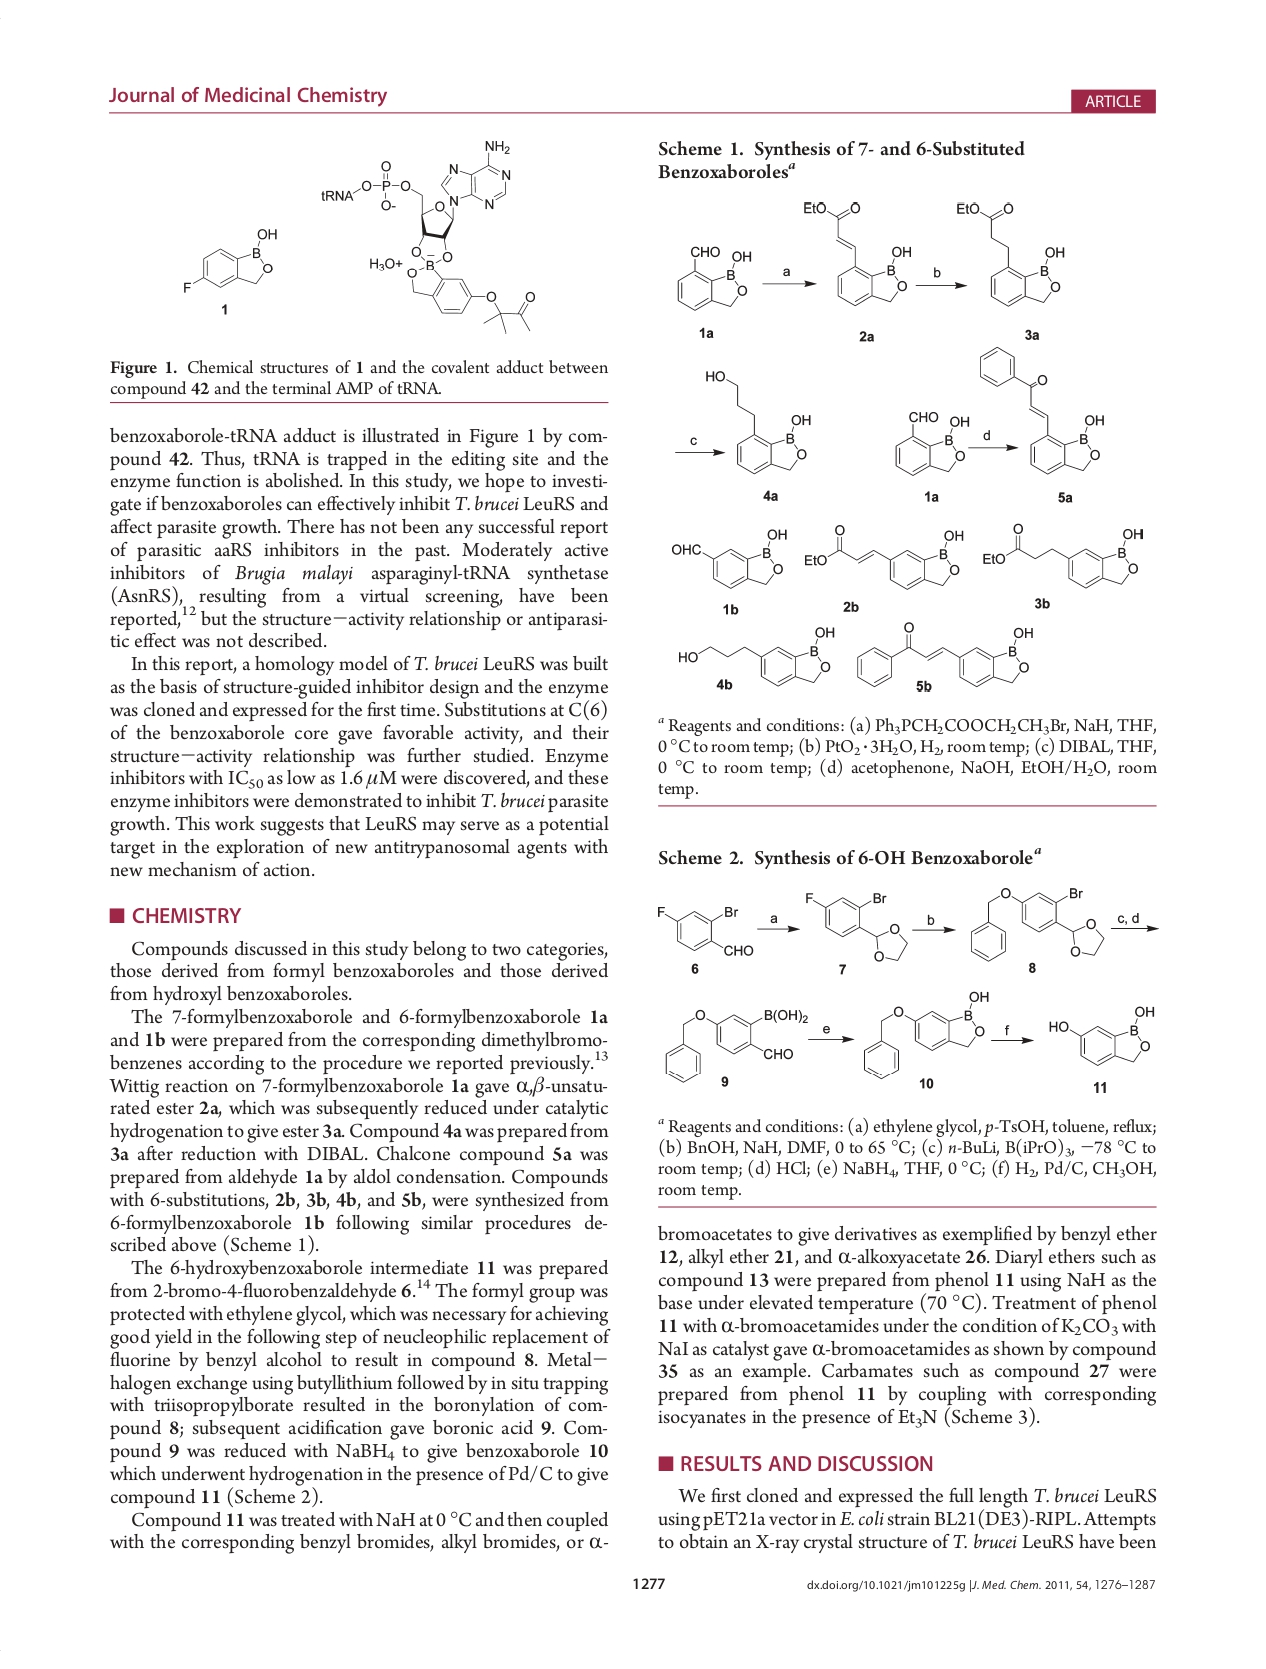exist_molecular: (318, 136, 544, 336), (976, 344, 1110, 480), (852, 617, 1036, 697), (952, 195, 1069, 307), (858, 985, 993, 1080), (661, 1001, 811, 1087), (701, 363, 815, 475), (799, 195, 915, 306), (977, 517, 1148, 590), (801, 521, 969, 594), (965, 880, 1106, 965), (676, 625, 836, 688), (801, 887, 911, 965), (174, 221, 285, 298), (668, 527, 793, 590), (1044, 1004, 1160, 1071), (652, 900, 758, 960), (890, 403, 973, 477), (672, 239, 757, 313)
